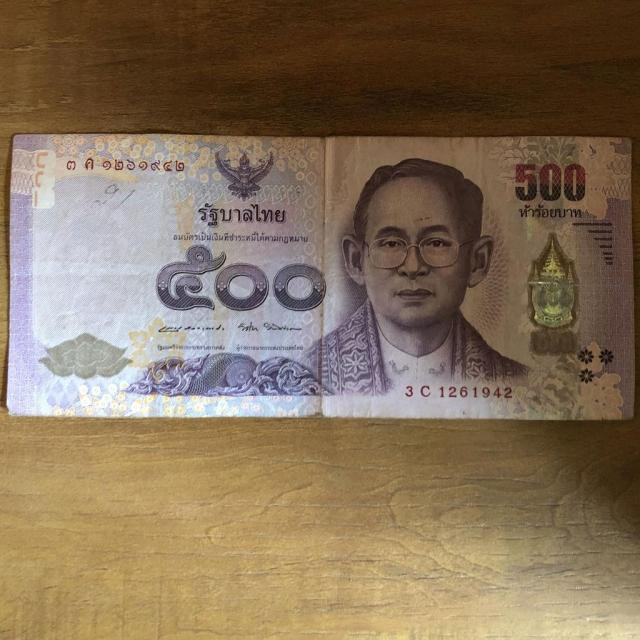THAI500: (7, 134, 633, 419)
